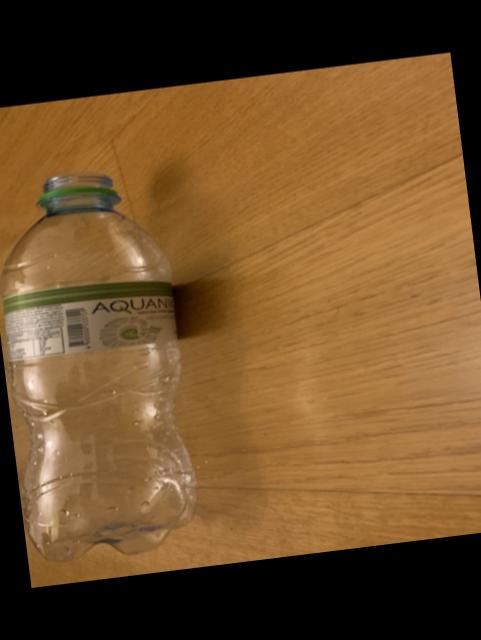plastic: (0, 177, 192, 562)
